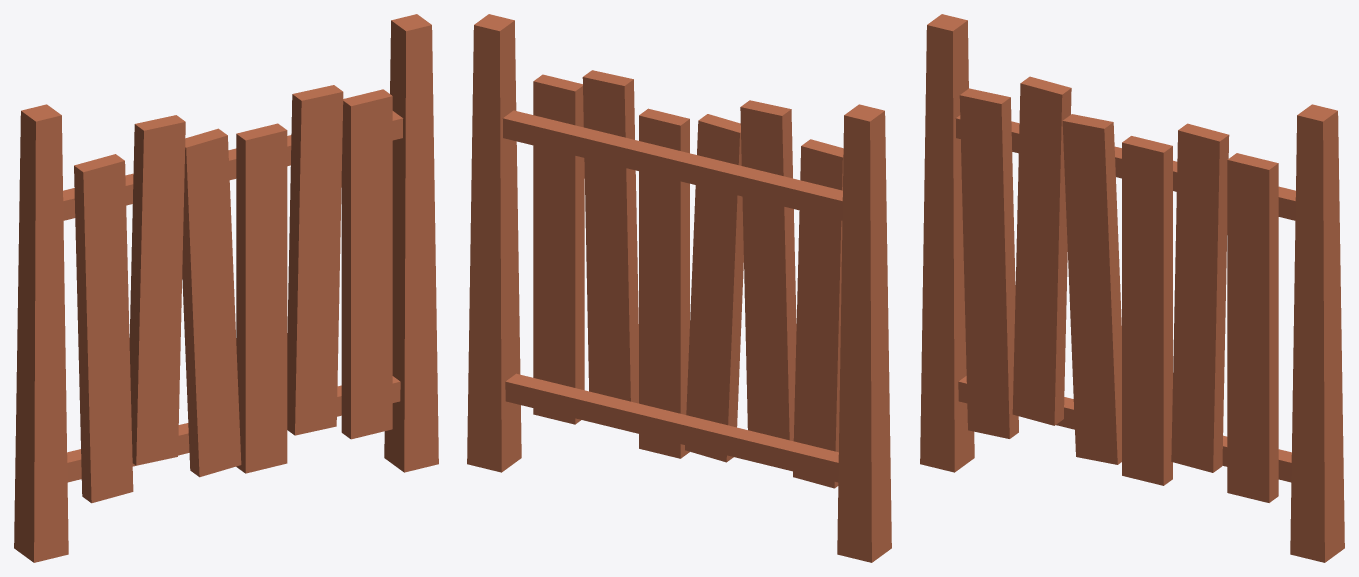
The model's file is fence-fortified.obj.
The picture shows the model from 3 angles, left to right: view 1: azimuth 30°, elevation 25°; view 2: azimuth 150°, elevation 25°; view 3: azimuth 330°, elevation 25°; orthographic projection.
Size of the model in its own units: 0.5 by 0.5175 by 0.053.
